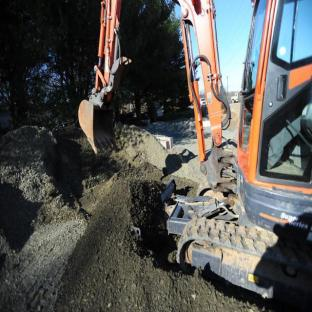ExcavationMachinery: (84, 1, 312, 295)
